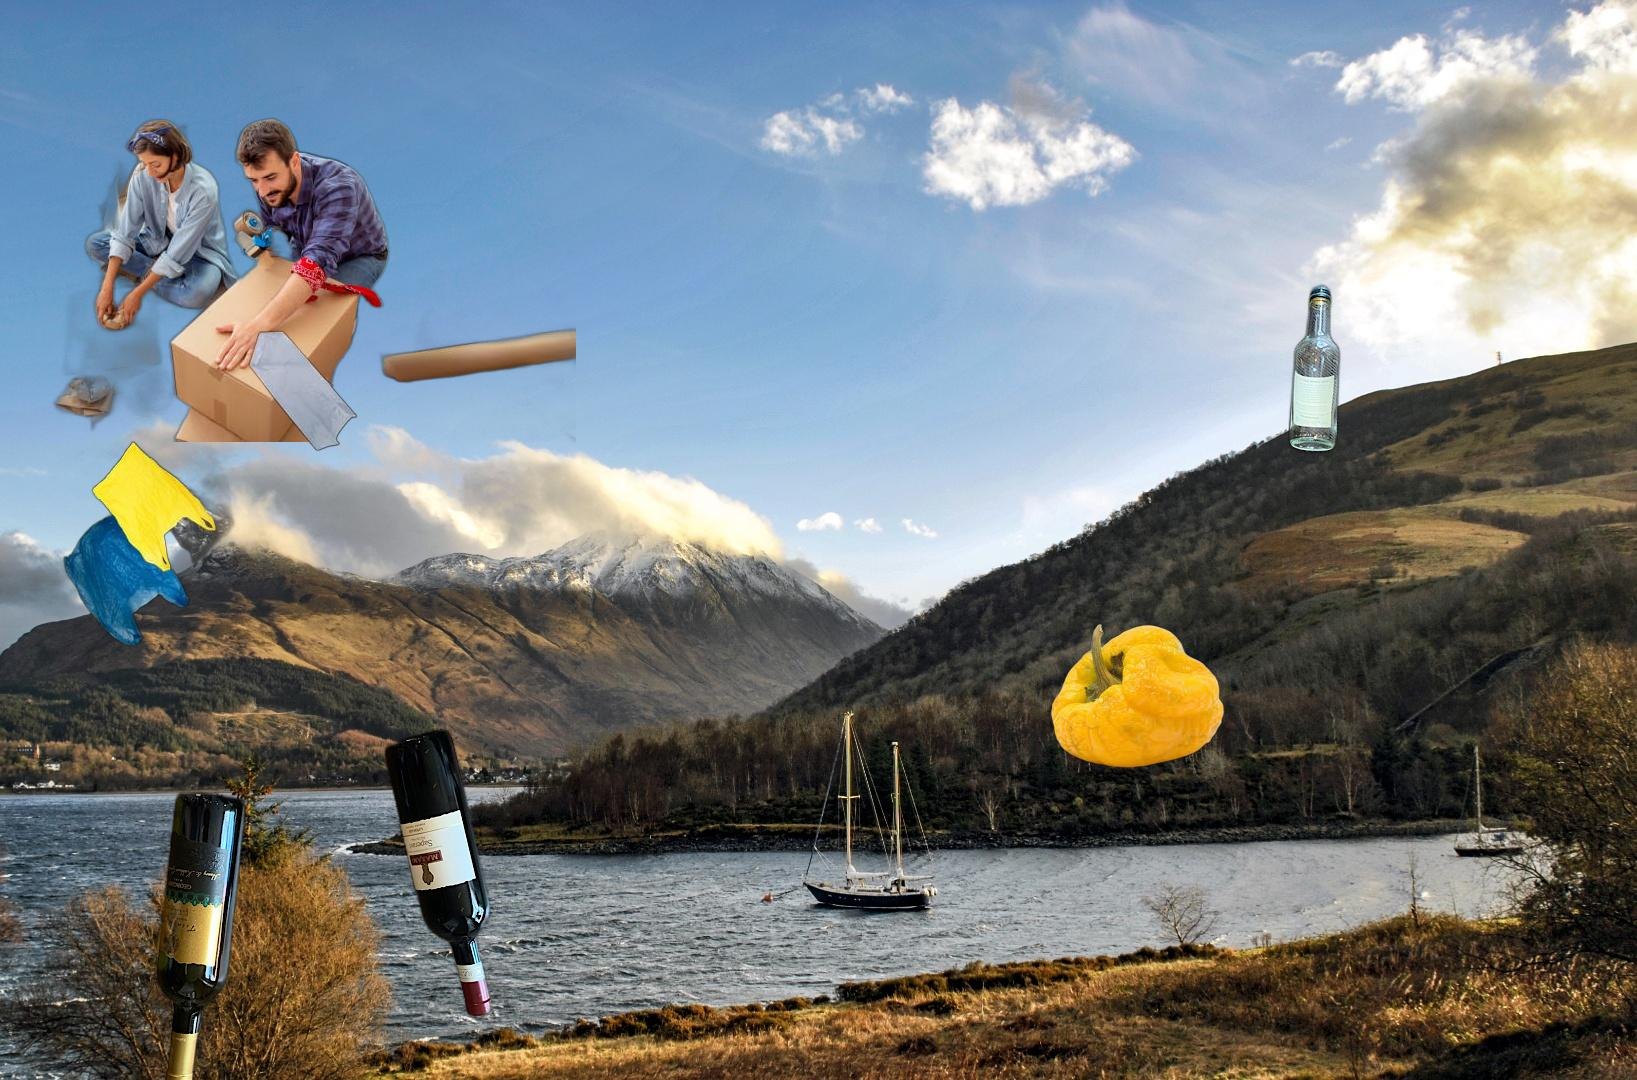biological: (1048, 621, 1225, 771)
glass: (149, 724, 497, 1080), (1284, 280, 1344, 458)
plastic-bag: (66, 330, 360, 569), (61, 429, 237, 648)
trashbox-cardboard: (48, 115, 576, 442)
